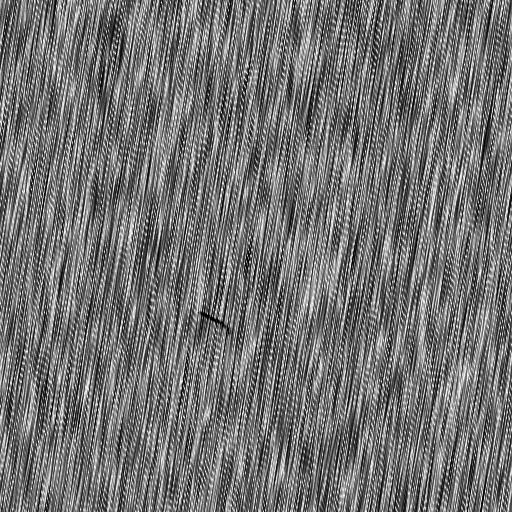DefectTypeC: (197, 306, 231, 336)
